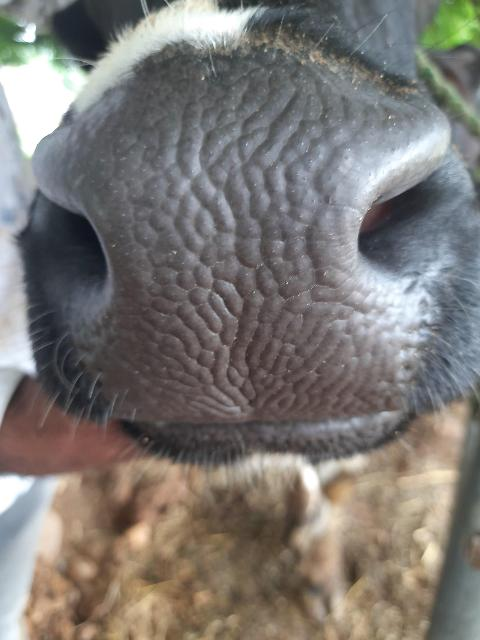Muzzle: (41, 84, 410, 424)
